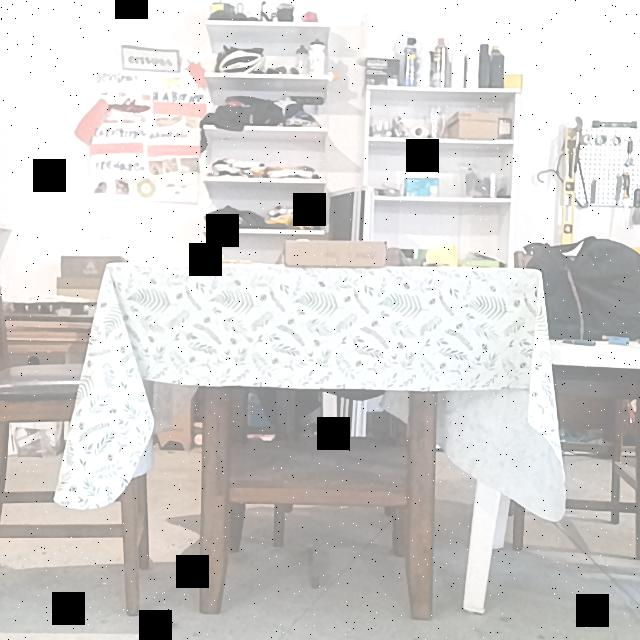box: (285, 240, 387, 266), (457, 112, 500, 138)
